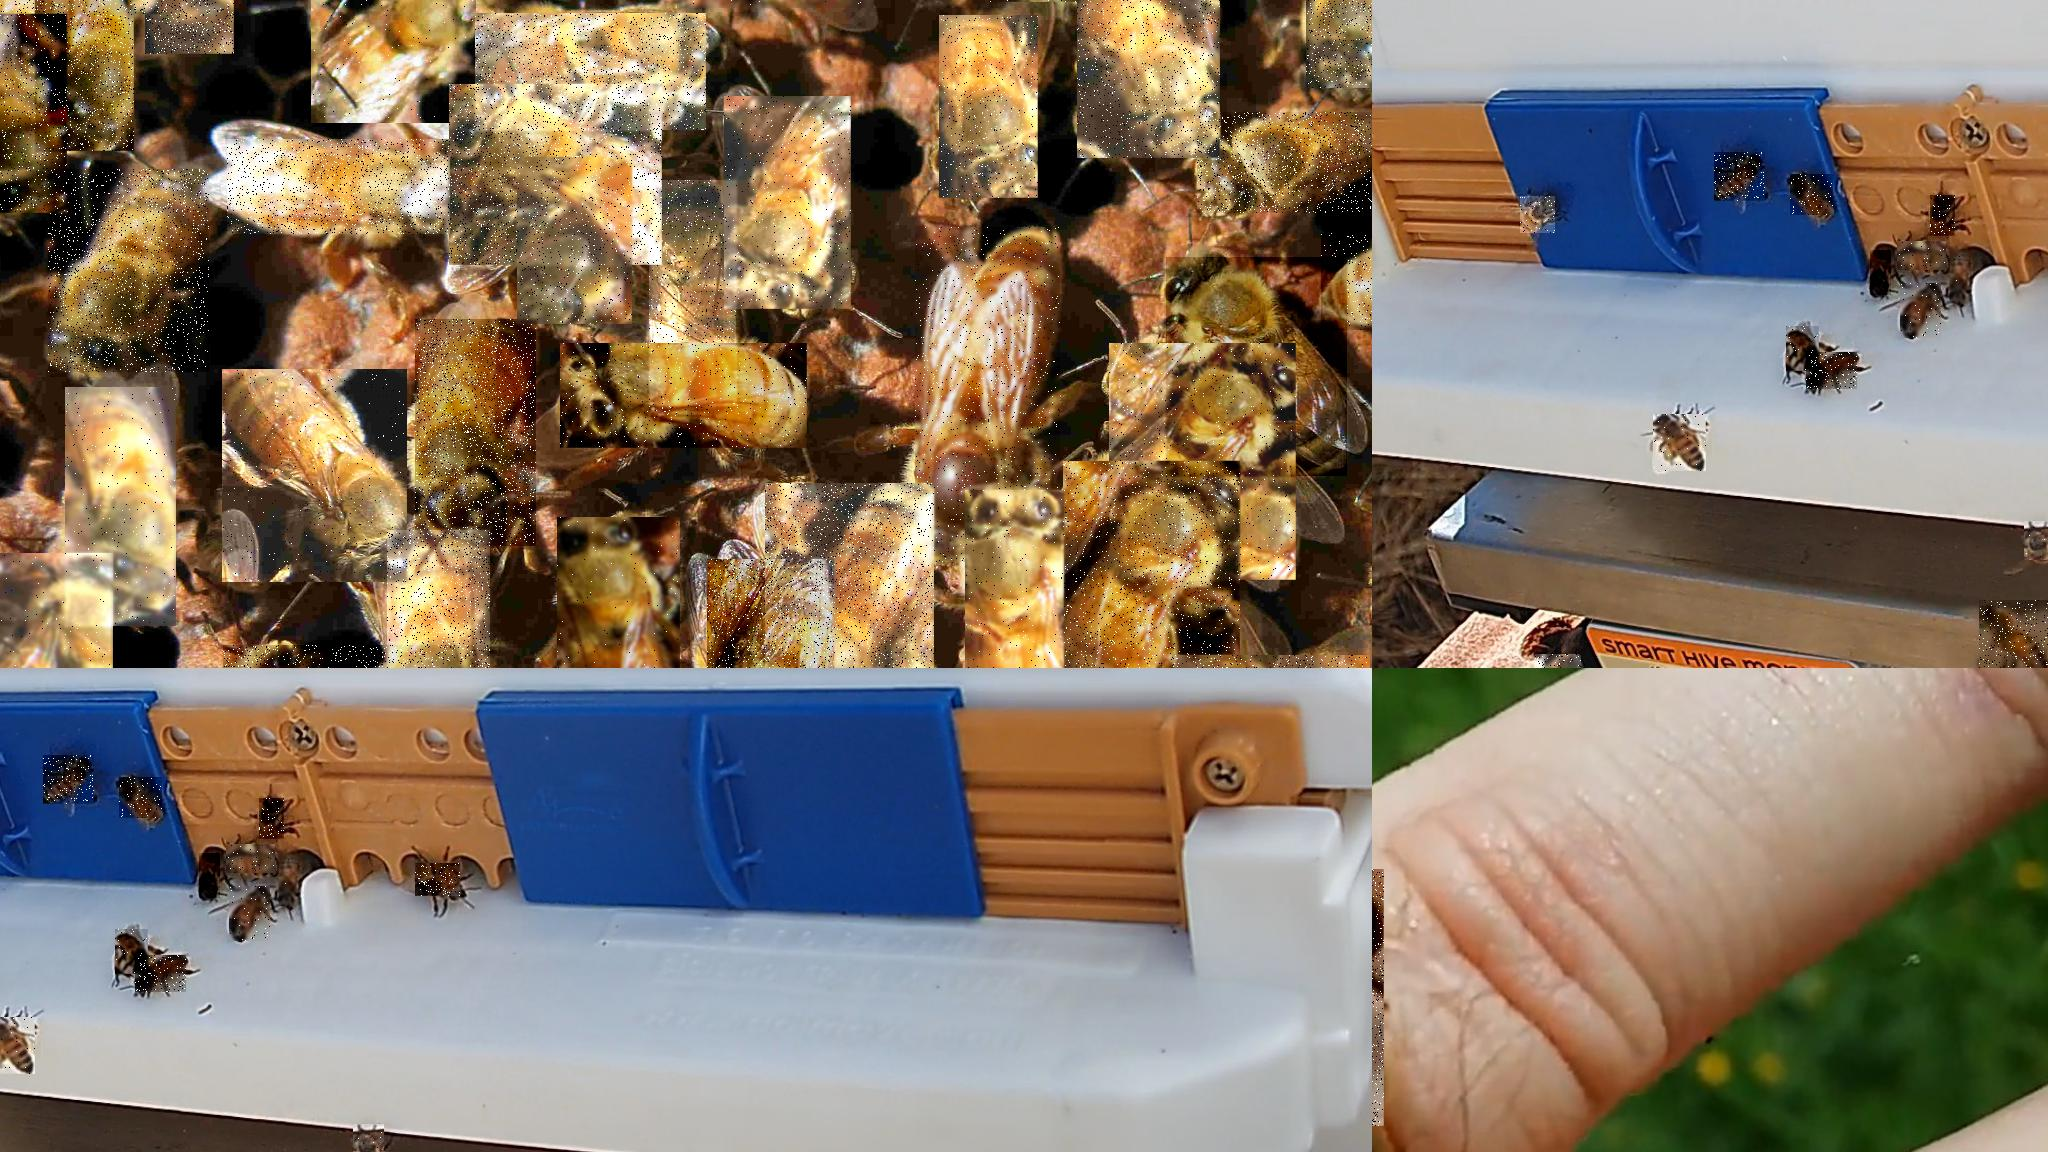bee: (1109, 343, 1297, 581), (1166, 257, 1348, 477), (222, 369, 408, 583), (449, 84, 663, 266), (1063, 461, 1241, 667), (48, 169, 210, 373), (764, 482, 936, 667), (415, 319, 537, 547), (724, 96, 852, 310), (475, 13, 707, 131), (65, 387, 177, 627), (560, 343, 808, 449), (1077, 0, 1221, 159), (227, 139, 451, 235), (310, 0, 478, 125), (649, 180, 737, 406), (517, 157, 633, 325), (556, 516, 682, 667), (939, 15, 1039, 199), (1197, 112, 1371, 215), (965, 490, 1065, 667), (34, 0, 136, 153), (387, 530, 492, 667), (0, 14, 69, 215), (707, 559, 835, 667), (0, 553, 115, 667), (1306, 0, 1371, 90), (145, 0, 236, 56), (1979, 600, 2047, 667), (1714, 152, 1766, 202), (43, 755, 95, 805), (1900, 283, 1942, 339), (229, 886, 271, 942), (1806, 352, 1858, 390), (135, 955, 187, 993), (1790, 174, 1834, 216), (119, 777, 163, 819), (1786, 326, 1820, 372), (415, 863, 461, 897), (115, 929, 149, 975), (1520, 196, 1556, 234), (1930, 195, 1956, 237), (259, 798, 285, 840), (1870, 250, 1892, 296), (199, 853, 221, 899), (1950, 249, 1968, 303), (279, 852, 297, 906), (2024, 521, 2047, 562), (353, 1124, 385, 1151), (1534, 653, 1582, 667)
pollenbee: (1653, 414, 1707, 472), (0, 1017, 37, 1075), (1897, 241, 1947, 271), (226, 844, 276, 874)
queen: (915, 227, 1061, 563)
